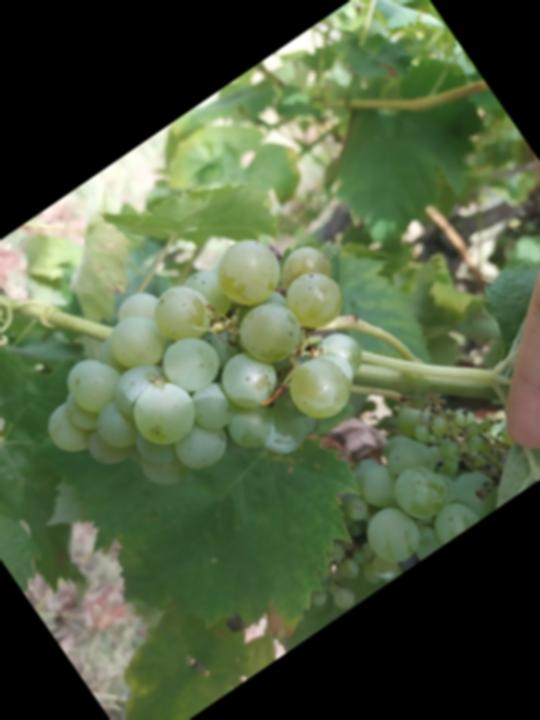grape: (6, 189, 412, 565)
